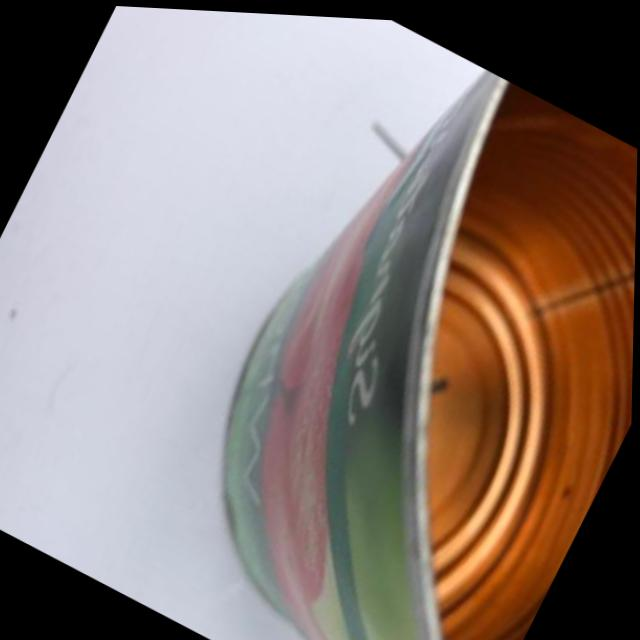metal: (118, 12, 640, 640)
